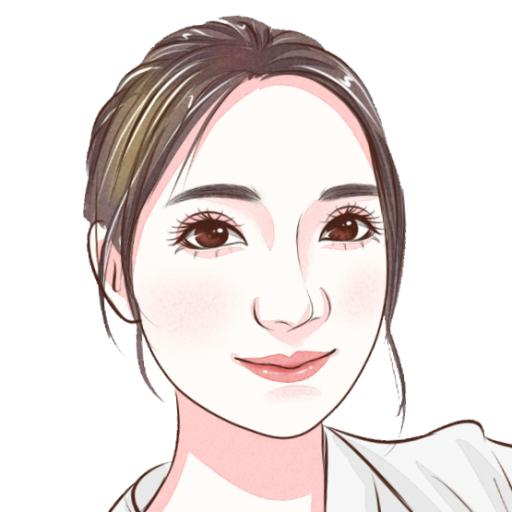NoHuman: (0, 2, 512, 512)
